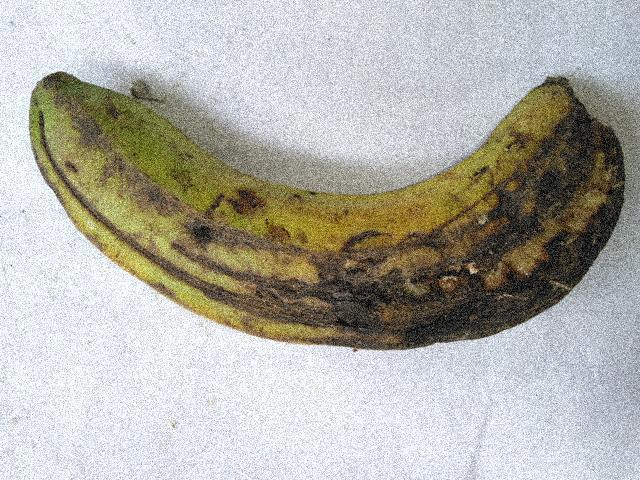rotten: (395, 56, 639, 391), (96, 222, 429, 362)
